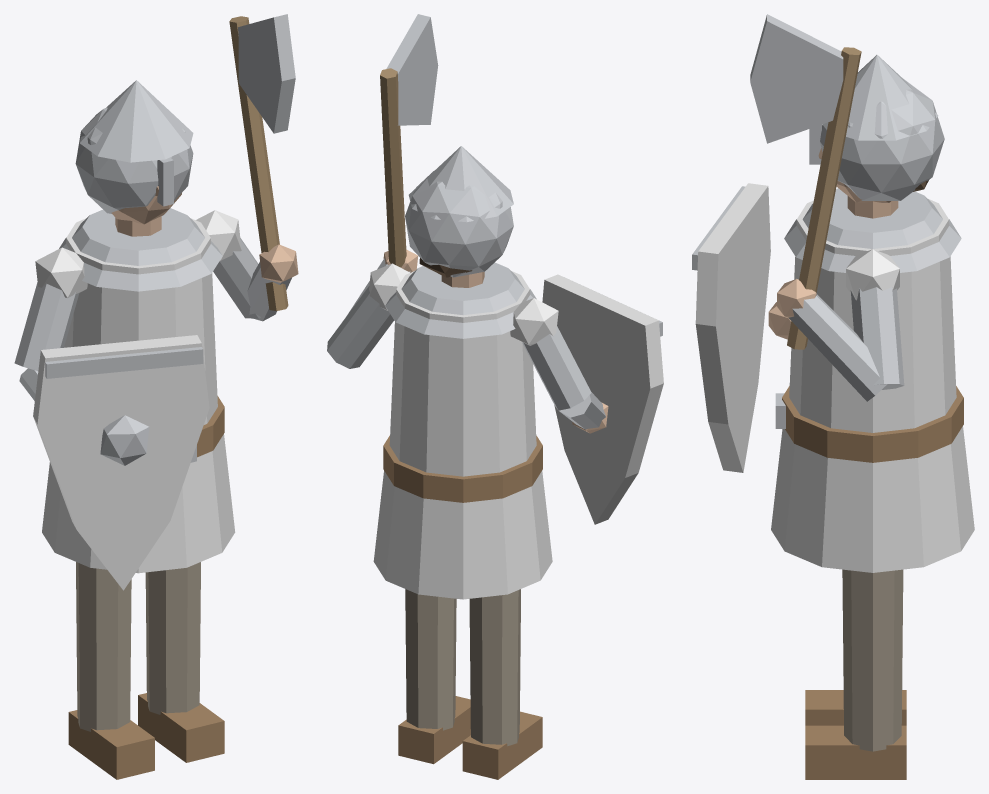
Rendered from civ_unit_medieval_infantry.glb.
The picture shows the model from 3 angles, left to right: view 1: azimuth 30°, elevation 25°; view 2: azimuth 150°, elevation 25°; view 3: azimuth 270°, elevation 25°; orthographic projection. The views are drawn at different scales.
Visible parts, largest first — view 1: civ_unit_medieval_infantry; view 2: civ_unit_medieval_infantry; view 3: civ_unit_medieval_infantry.
Part boxes in pixels (x1=…): civ_unit_medieval_infantry: x1=14, y1=14, x2=298, y2=779; civ_unit_medieval_infantry: x1=327, y1=14, x2=663, y2=779; civ_unit_medieval_infantry: x1=692, y1=14, x2=974, y2=779.
Size of the model in its own units: 0.8655 by 2.04 by 0.6683.
